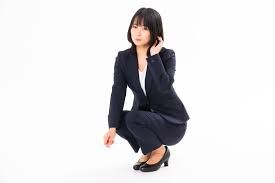no-mask: (119, 5, 174, 47)
